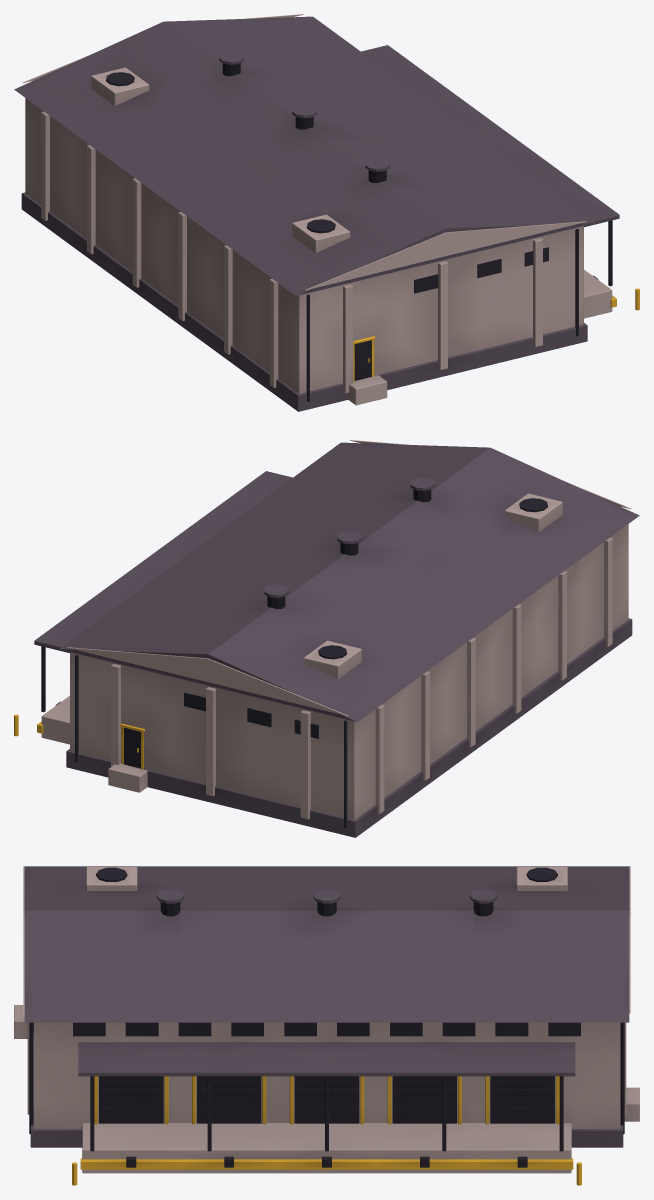
The model's file is bld.cure-warehouse.glb.
3 views of the same model, one above another, from view 1: azimuth 30°, elevation 25°; view 2: azimuth 150°, elevation 25°; view 3: azimuth 270°, elevation 25° (orthographic). The views are drawn at different scales.
Visible parts, largest first — view 1: body; view 2: body; view 3: body.
Boxes of the visible parts, bbox=[...] form: body: bbox=[14, 14, 639, 411]; body: bbox=[14, 440, 639, 837]; body: bbox=[14, 866, 639, 1185].
Bounding box in the file's own units: 23.17 × 9.98 × 32.
